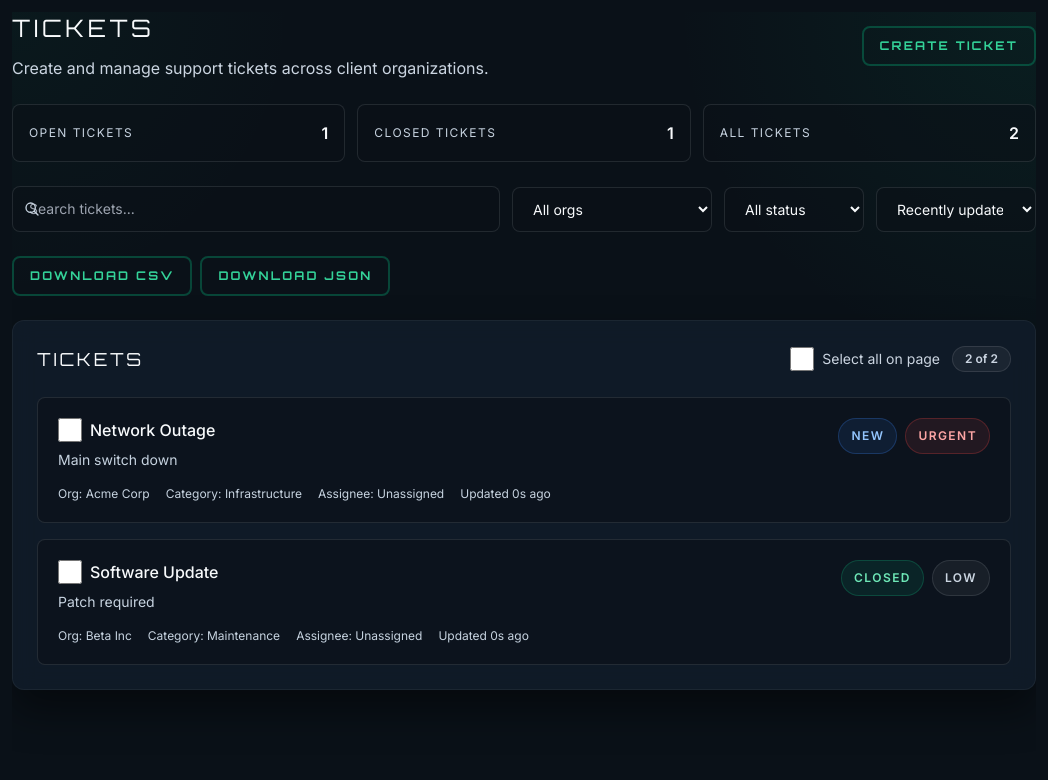
it: AdminTicketCenterClient › filters tickets by search query
The width and height of the screenshot is (1048, 780).
Type "Network" into the field with placeholder "Search tickets..." at {"x": 256, "y": 209}, box [12,186,500,232]
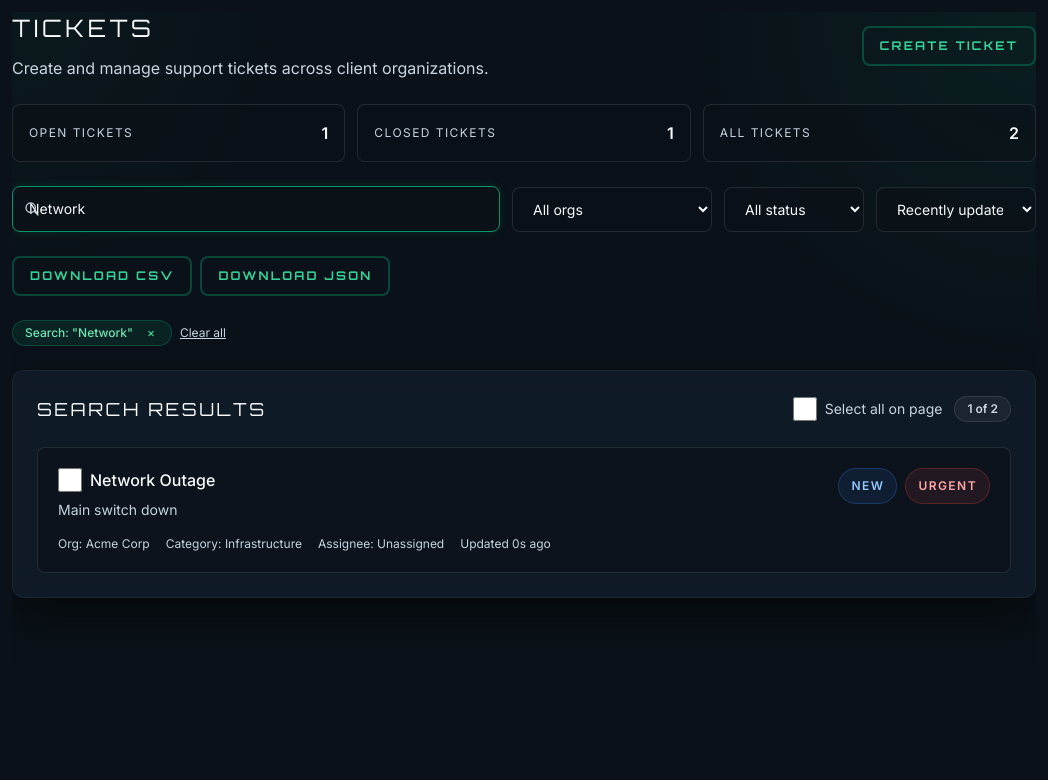
Expected: the link "Network Outage" is shown, [90,468,215,492]
Expected: the link "Software Update" is gone
